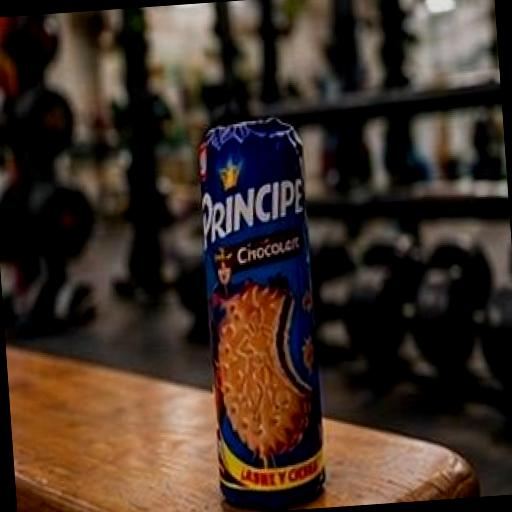prince: (149, 73, 409, 512)
